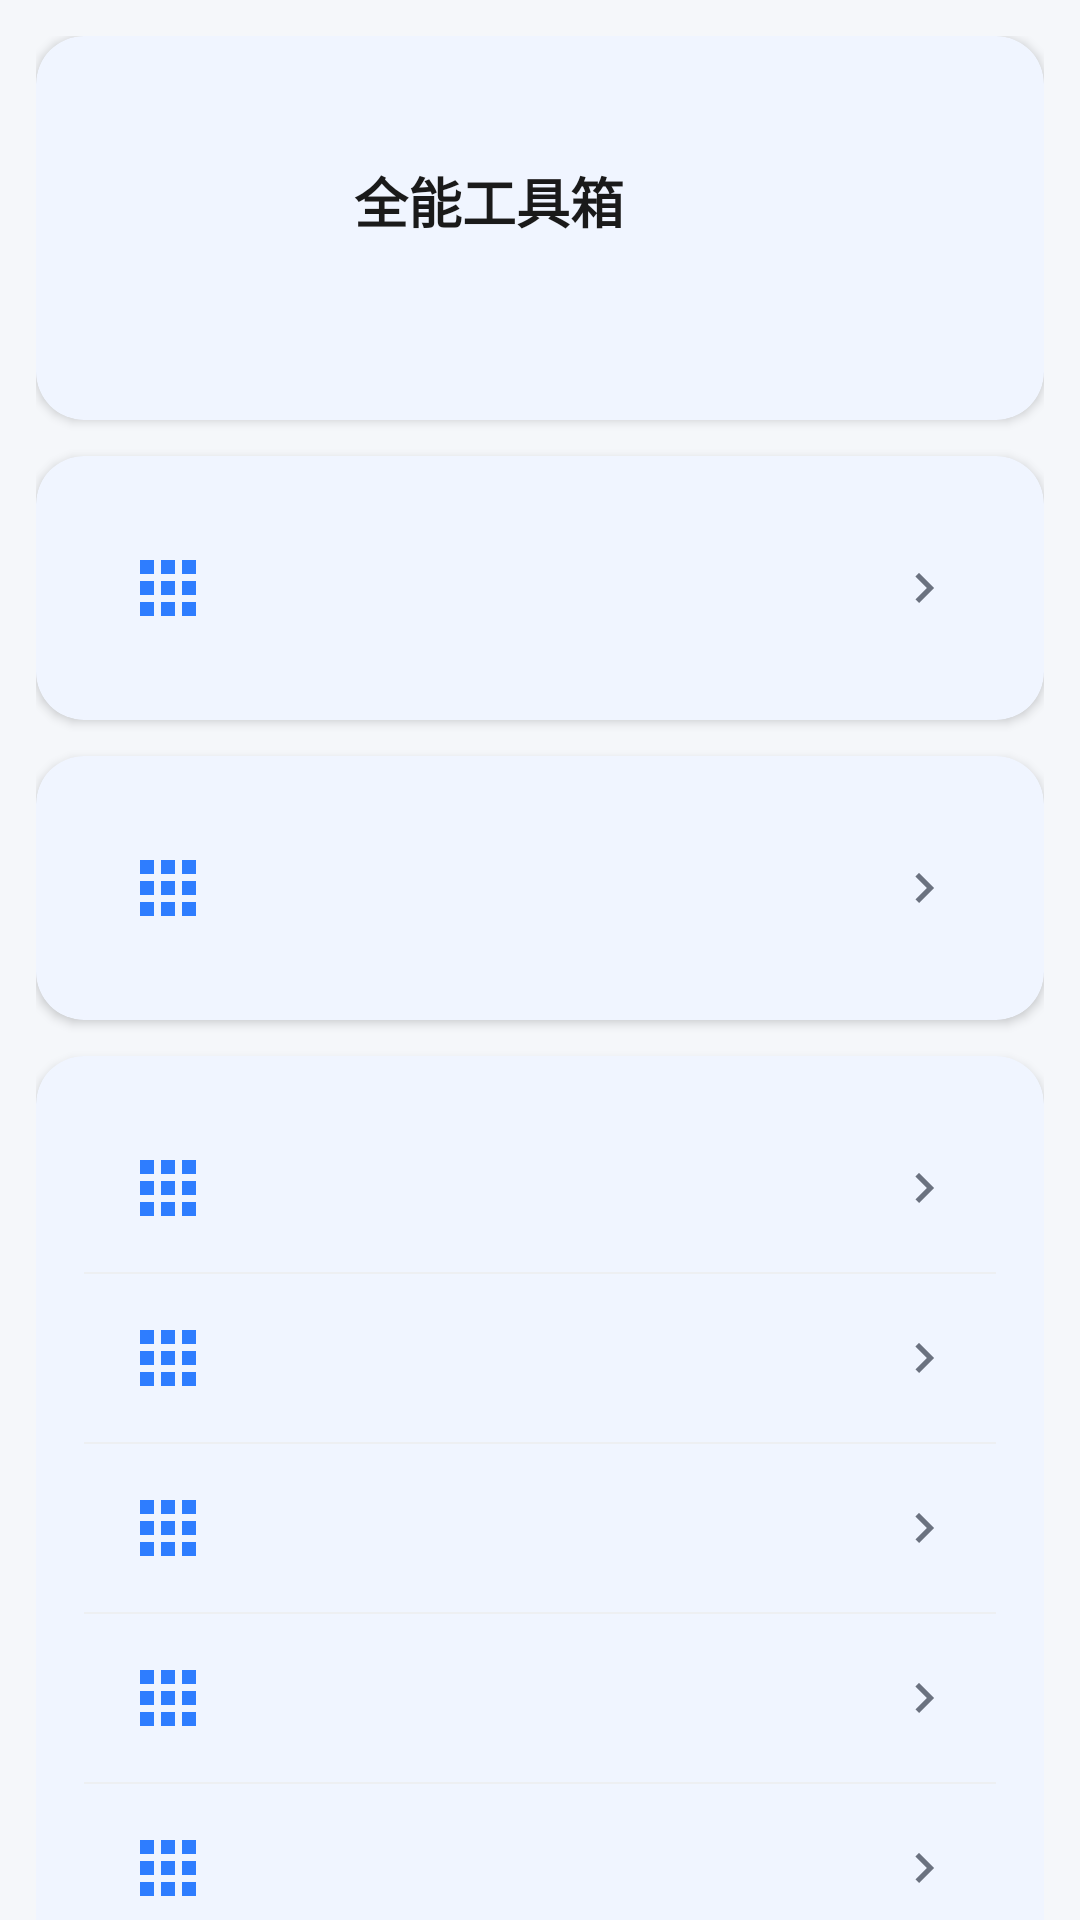

Icons on this 1080 × 1920 Android screen, each with the point to tap as (x,y):
arrow right: (924,588), (924,888), (924,1188), (924,1358), (924,1528), (924,1698), (924,1868)
tool apps: (168,588), (168,888), (168,1188), (168,1358), (168,1528), (168,1698), (168,1868)
